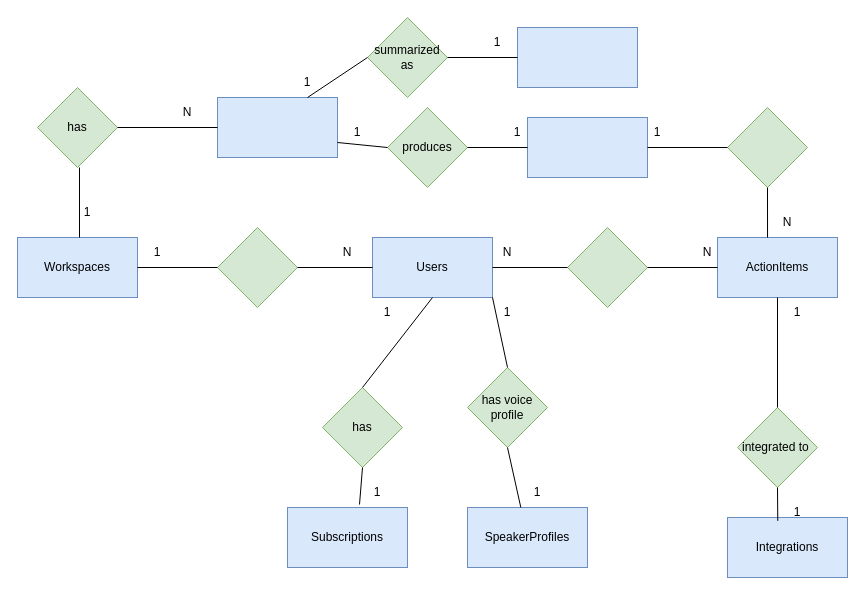
This 865x595 diagram has some shape labels left out. The centre of each missing label's shape, as x and y in pixels:
"assigned to" goes at (x=607, y=267).
"belongs to" goes at (x=257, y=267).
"extracts" goes at (x=767, y=147).
"Meetings" goes at (x=277, y=127).
"Summaries" goes at (x=577, y=57).
"Transcripts" goes at (x=587, y=147).
